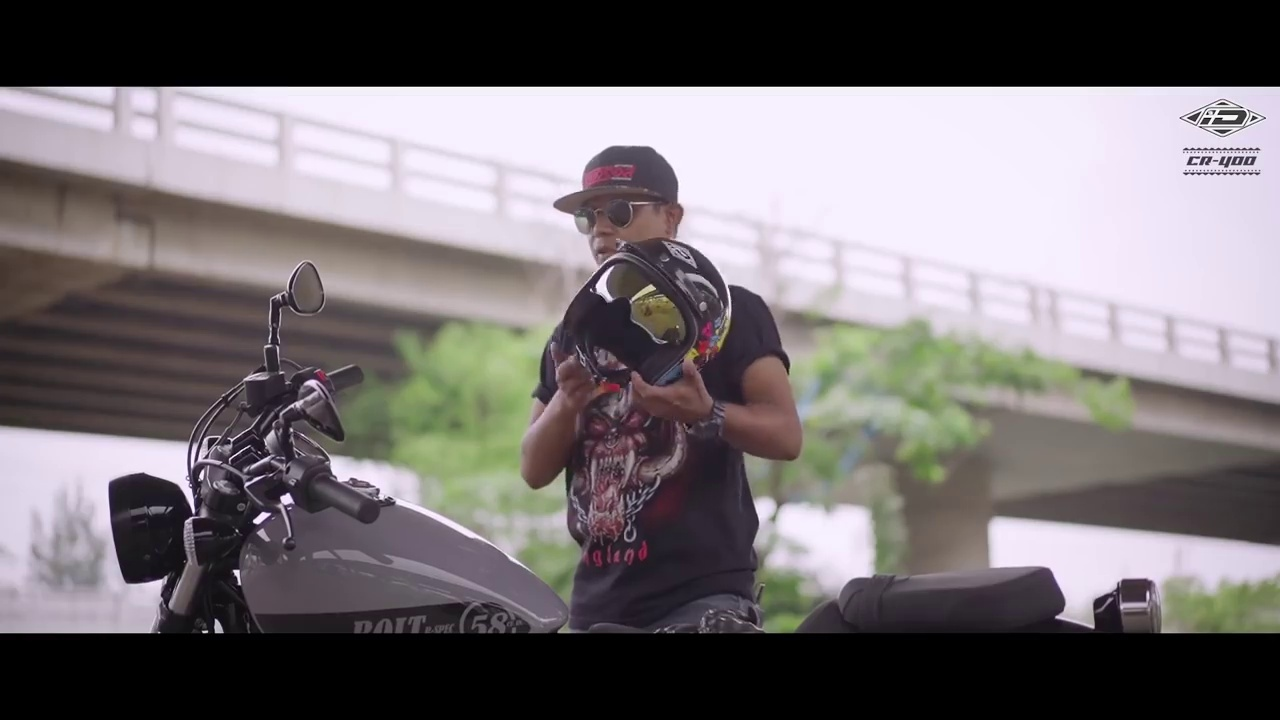helmet: (559, 230, 729, 386)
